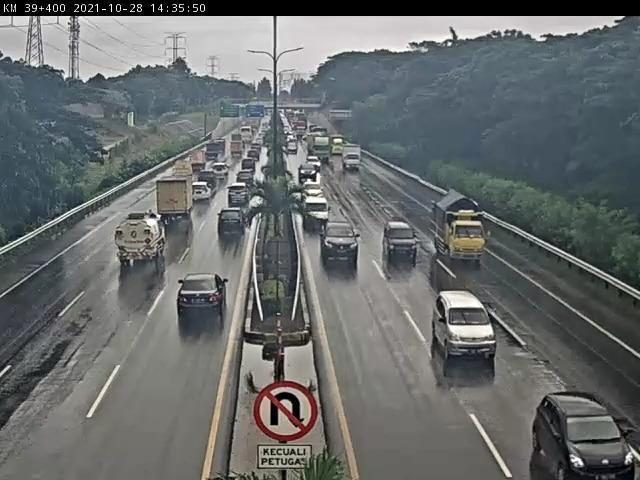car: (535, 387, 640, 479), (426, 282, 501, 362), (156, 266, 230, 330), (319, 221, 364, 267), (378, 222, 421, 262), (207, 203, 252, 240), (298, 189, 329, 222), (224, 186, 255, 213), (182, 180, 213, 203), (293, 160, 322, 183), (231, 173, 252, 194)
truck: (108, 204, 175, 271), (439, 194, 492, 261), (146, 180, 193, 236), (341, 147, 362, 172)
